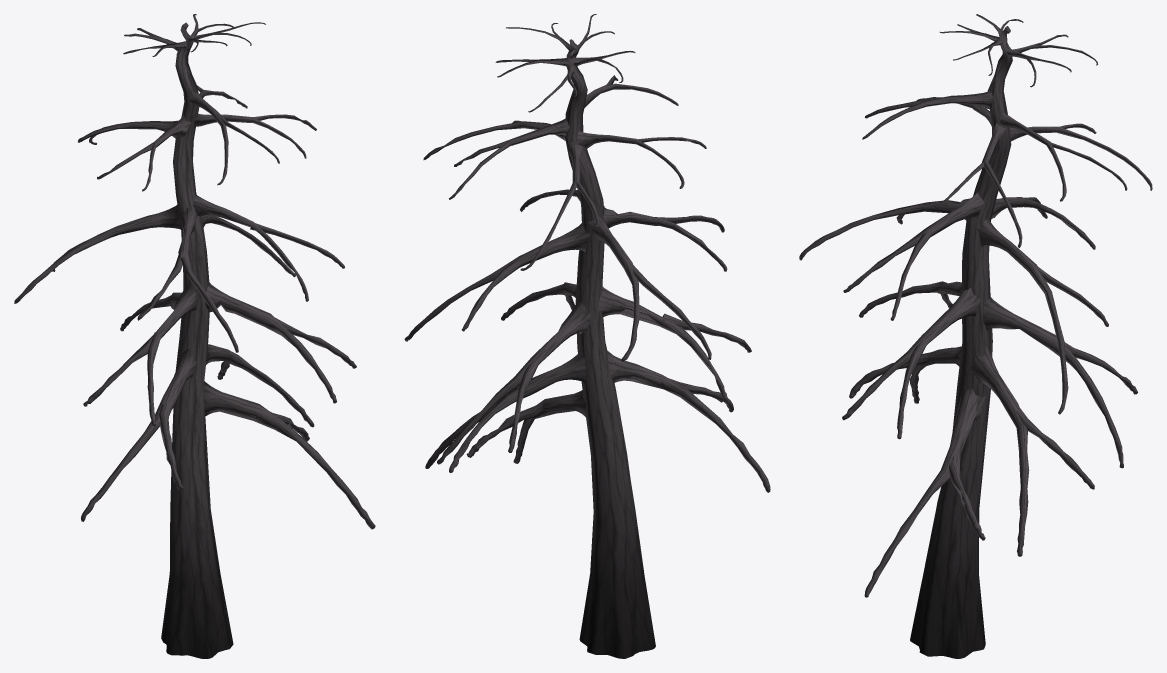
The model's file is dead5.glb.
3 views of the same model, side by side, from view 1: azimuth 30°, elevation 25°; view 2: azimuth 150°, elevation 25°; view 3: azimuth 270°, elevation 25° (orthographic). The views are drawn at different scales.
Parts seen in each view (by area): view 1: DeadTree_5; view 2: DeadTree_5; view 3: DeadTree_5.
Part boxes in pixels (box(x1,y1,x2,y2)): DeadTree_5: box(14, 14, 375, 658); DeadTree_5: box(404, 14, 770, 658); DeadTree_5: box(799, 14, 1152, 658).
Bounding box in the file's own units: 8.36 × 16.44 × 8.41.
1 material, 1 textured.
